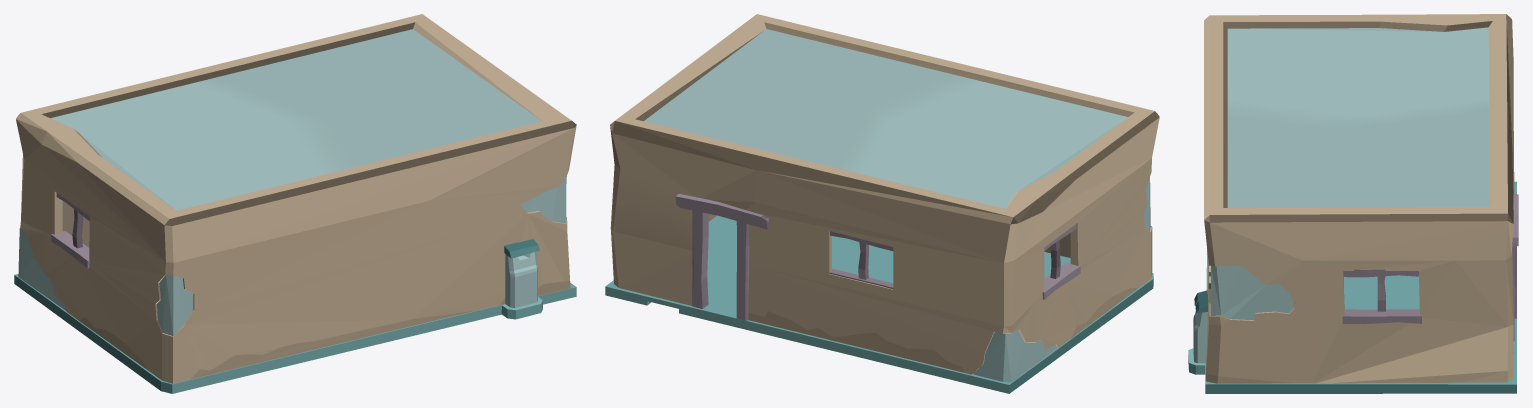
The model's file is Farm building.fbx.
The picture shows the model from 3 angles, left to right: view 1: azimuth 30°, elevation 25°; view 2: azimuth 150°, elevation 25°; view 3: azimuth 270°, elevation 25°; orthographic projection. The views are drawn at different scales.
Visible parts, largest first — view 1: Hous_Farm; view 2: Hous_Farm; view 3: Hous_Farm.
Part boxes in pixels (<box>): Hous_Farm: <box>14,14,576,393</box>; Hous_Farm: <box>605,14,1159,393</box>; Hous_Farm: <box>1188,14,1518,393</box>.
Bounding box in the file's own units: 10.93 × 4.41 × 7.42.
1 material, 1 textured.
